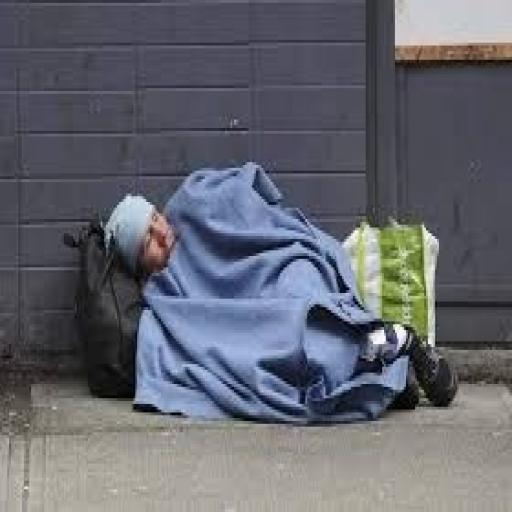sleeping: (99, 156, 459, 424)
